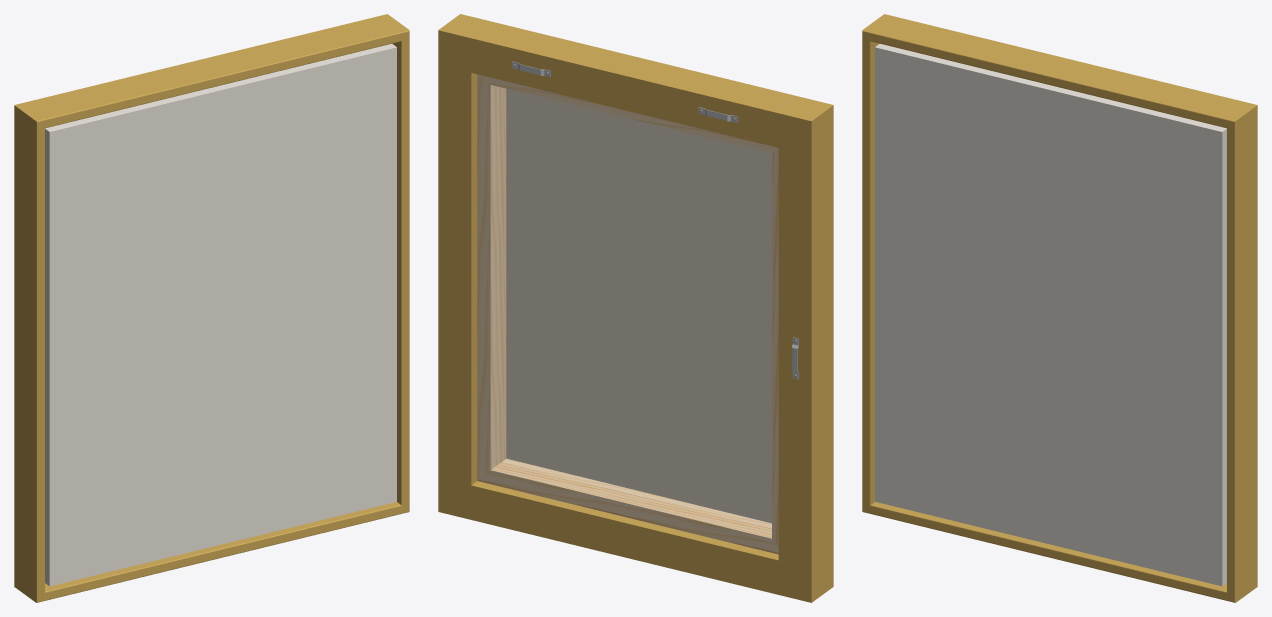
File: decoded-from-delivery.glb
The picture shows the model from 3 angles, left to right: view 1: azimuth 30°, elevation 25°; view 2: azimuth 150°, elevation 25°; view 3: azimuth 330°, elevation 25°; orthographic projection.
Parts seen in each view (by area): view 1: Canvas artwork front, Tray approved profile 0; view 2: Canvas linen reverse, Tray approved profile 0, Stretcher top, Sawtooth hanger 0; view 3: Canvas artwork front, Tray approved profile 0.
Boxes of the visible parts, bbox=[...] form: Canvas artwork front: bbox=[45, 44, 396, 586]; Tray approved profile 0: bbox=[14, 14, 409, 602]; Canvas linen reverse: bbox=[506, 88, 771, 523]; Tray approved profile 0: bbox=[438, 14, 833, 602]; Stretcher top: bbox=[477, 74, 778, 554]; Sawtooth hanger 0: bbox=[511, 61, 798, 379]; Canvas artwork front: bbox=[875, 44, 1226, 586]; Tray approved profile 0: bbox=[862, 14, 1257, 602].
Bounding box in the file's own units: 0.43 × 0.53 × 0.0474.
7 materials, 2 textured.
